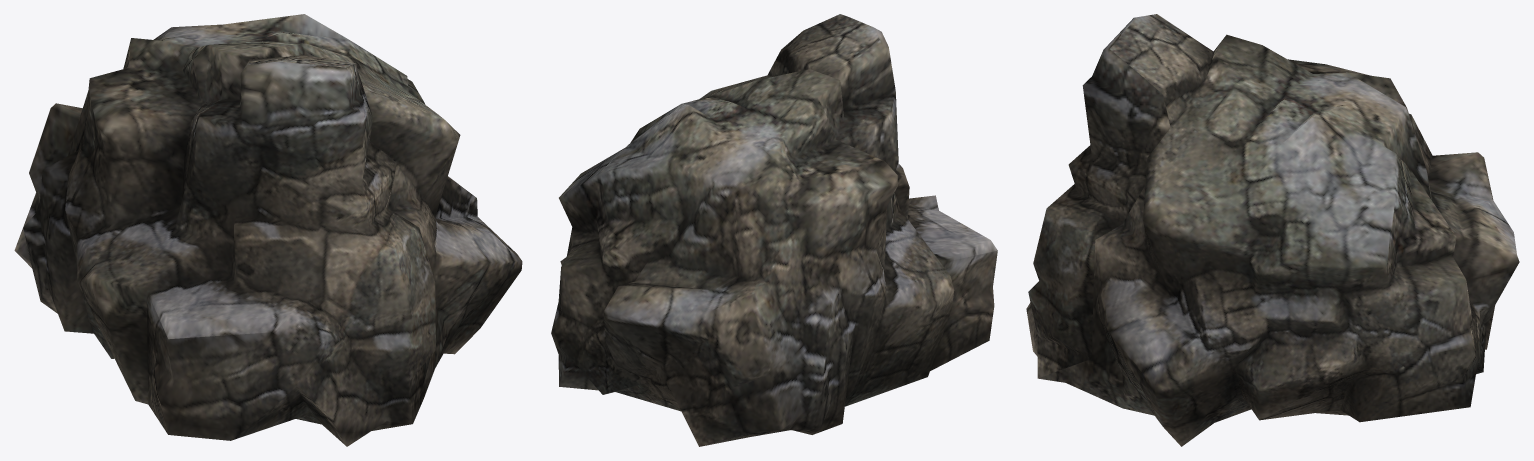
File: Rock1A.FBX
3 views of the same model, side by side, from view 1: azimuth 30°, elevation 25°; view 2: azimuth 150°, elevation 25°; view 3: azimuth 270°, elevation 25° (orthographic). The views are drawn at different scales.
Parts seen in each view (by area): view 1: Rock1A; view 2: Rock1A; view 3: Rock1A.
Boxes of the visible parts, x1,y1,x2,y2 form: Rock1A: (14, 14, 522, 446); Rock1A: (551, 14, 997, 446); Rock1A: (1026, 14, 1519, 446).
Bounding box in the file's own units: 4.26 × 3.71 × 4.89.
